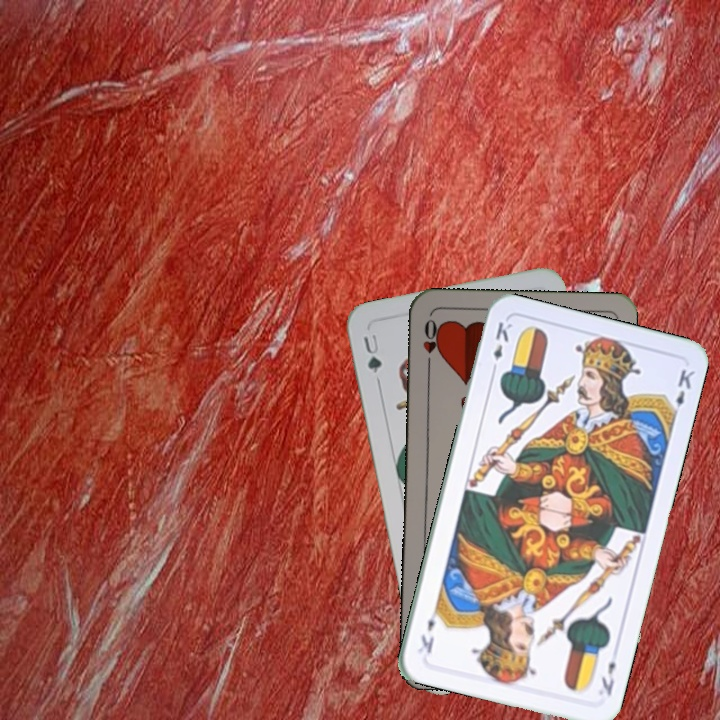EK: (487, 318, 515, 376), (594, 657, 618, 698)
GU: (359, 330, 385, 376)
HO: (419, 314, 442, 373)
